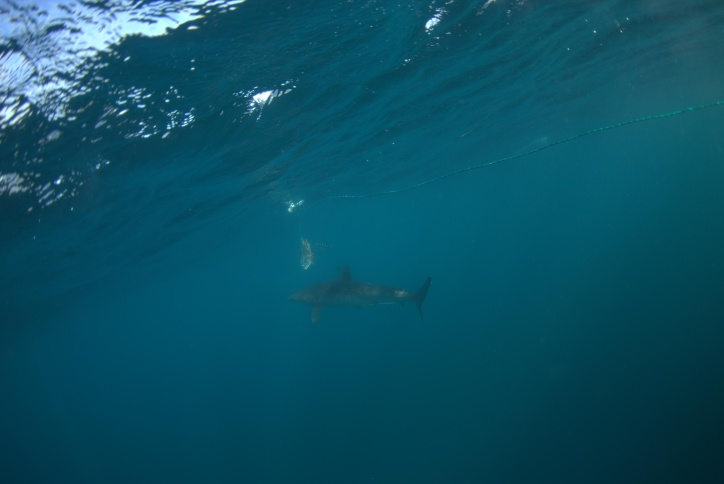Sedoso: (246, 258, 451, 329)
